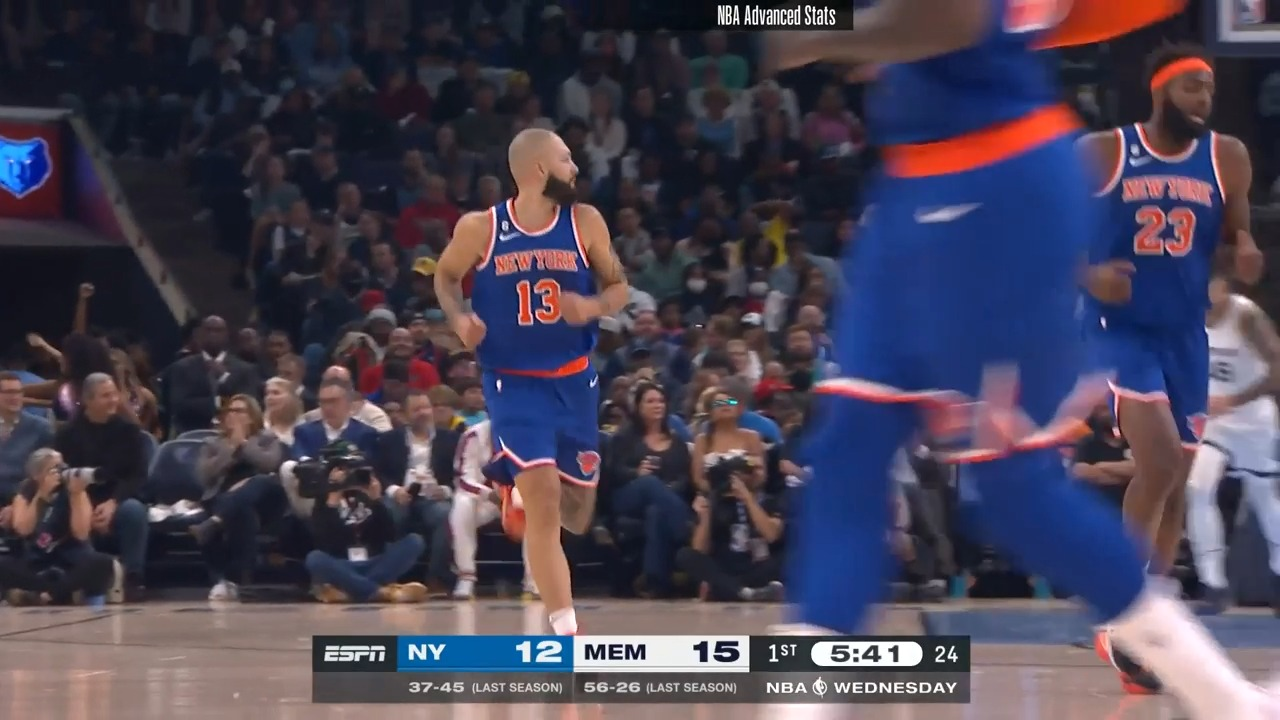player: (1212, 260, 1280, 474)
